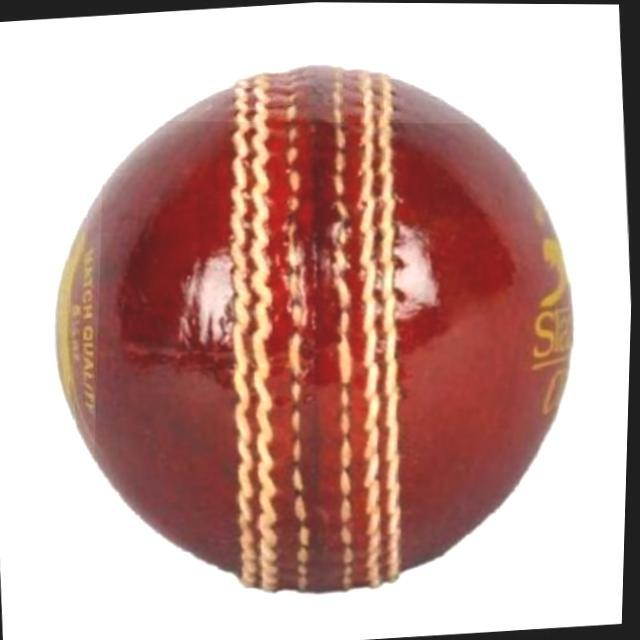-: (94, 121, 633, 604)
